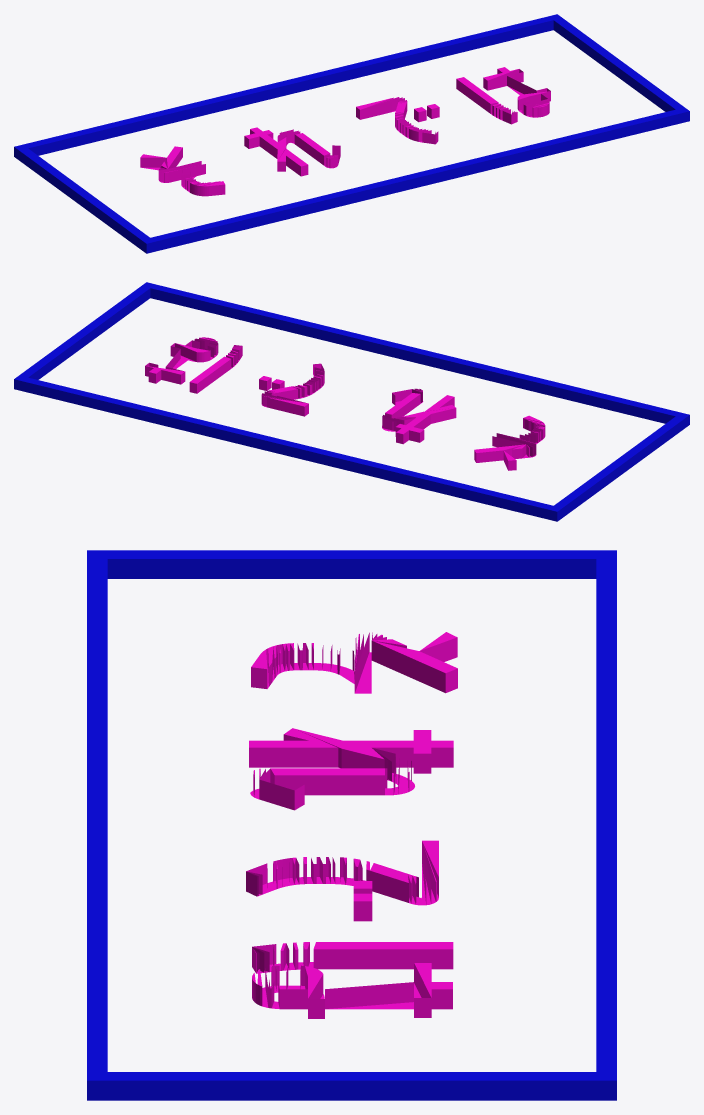
The model's file is judge.fbx.
3 renders of one model, top to bottom at view 1: azimuth 30°, elevation 25°; view 2: azimuth 150°, elevation 25°; view 3: azimuth 270°, elevation 25°, orthographic. The views are drawn at different scales.
Parts seen in each view (by area): view 1: Curve.161, Curve.157; view 2: Curve.161, Curve.157; view 3: Curve.161, Curve.157.
Part boxes in pixels (x1,y1,x2,y2): Curve.161: (14, 14, 689, 253); Curve.157: (140, 67, 550, 196); Curve.161: (14, 282, 689, 521); Curve.157: (145, 337, 545, 470); Curve.161: (87, 550, 616, 1100); Curve.157: (246, 632, 457, 1018).
Bounding box in the file's own units: 0.0171 × 0.0003 × 0.00721.
